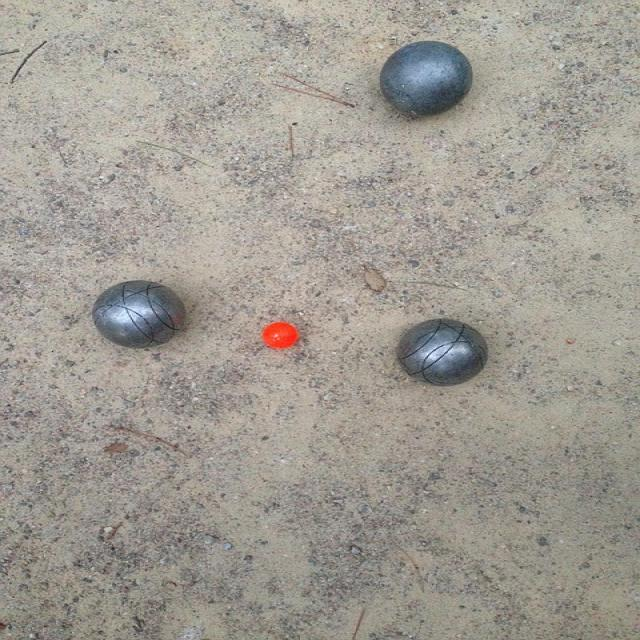hatball: (249, 318, 313, 352)
petanque: (80, 272, 192, 359), (374, 38, 481, 124), (384, 313, 494, 393)
